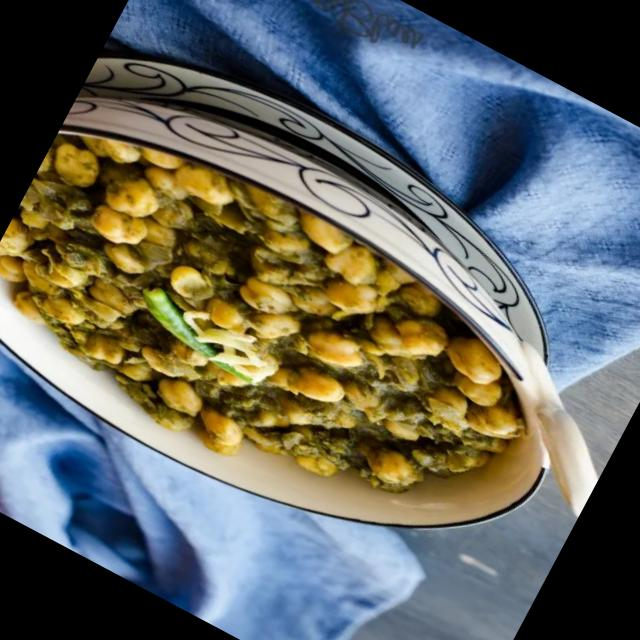Chole: (0, 90, 569, 579)
